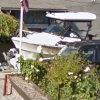Boat: (8, 8, 97, 80)
